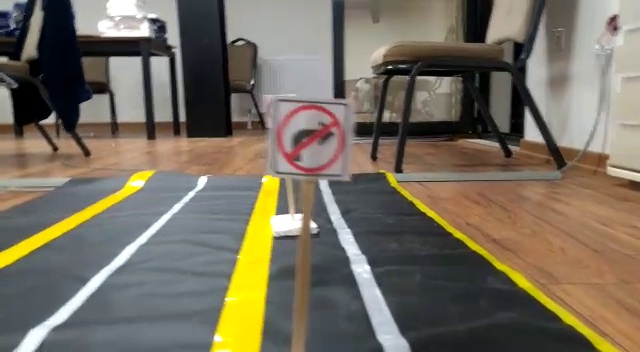saga_donulmez: (276, 99, 347, 175)
